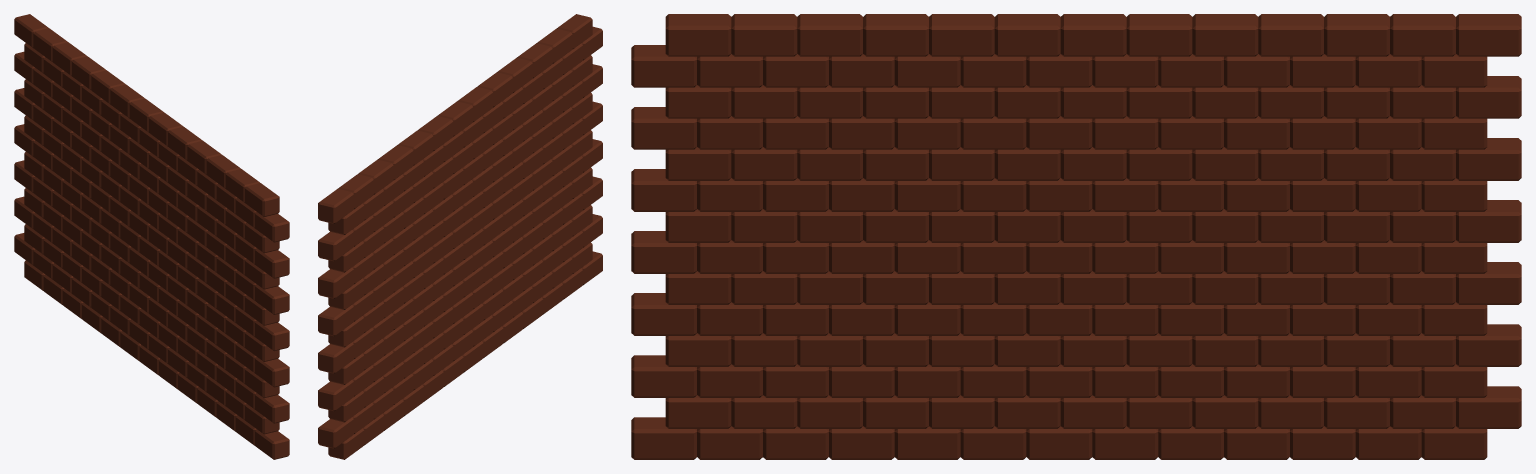
Rendered from BrickWall.glb.
The picture shows the model from 3 angles, left to right: view 1: azimuth 30°, elevation 25°; view 2: azimuth 150°, elevation 25°; view 3: azimuth 270°, elevation 25°; orthographic projection. The views are drawn at different scales.
Visible parts, largest first — view 1: Cube; view 2: Cube; view 3: Cube.
Boxes of the visible parts, left/top/right/bottom form: Cube: left=14, top=14, right=289, bottom=459; Cube: left=318, top=14, right=602, bottom=459; Cube: left=631, top=14, right=1521, bottom=459.
Size of the model in its own units: 0.3218 by 4.5 by 8.37.
